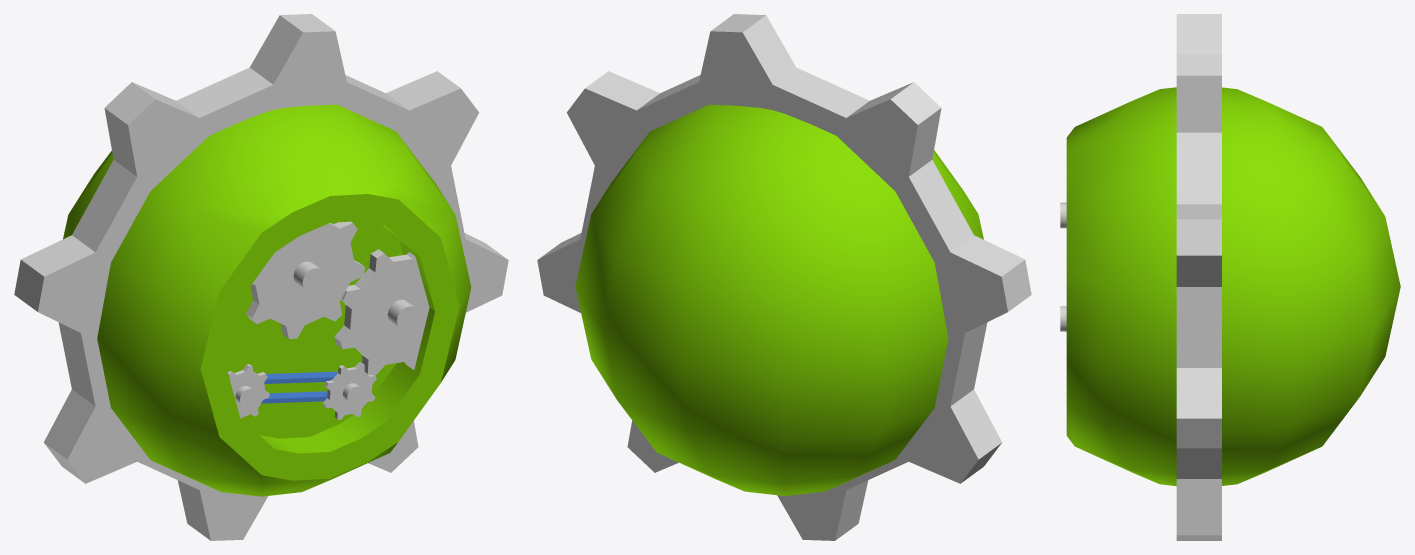
The model's file is ClockworkCore.glb.
The picture shows the model from 3 angles, left to right: view 1: azimuth 30°, elevation 25°; view 2: azimuth 150°, elevation 25°; view 3: azimuth 270°, elevation 25°; orthographic projection. The views are drawn at different scales.
Parts seen in each view (by area): view 1: Sphere, Circle, Circle.001, Circle.002, Circle.003, Cube, Circle.004, Cylinder, Cylinder.002; view 2: Sphere, Circle; view 3: Sphere, Circle.
Part boxes in pixels (left/top/right/bottom): Sphere: left=63, top=104, right=471, bottom=496; Circle: left=14, top=14, right=508, bottom=540; Circle.001: left=246, top=221, right=365, bottom=338; Circle.002: left=334, top=249, right=429, bottom=375; Circle.003: left=323, top=362, right=376, bottom=419; Cube: left=261, top=371, right=337, bottom=403; Circle.004: left=228, top=364, right=269, bottom=418; Cylinder: left=293, top=261, right=325, bottom=292; Cylinder.002: left=387, top=299, right=419, bottom=330; Sphere: left=575, top=104, right=983, bottom=495; Circle: left=537, top=14, right=1031, bottom=540; Sphere: left=1066, top=87, right=1400, bottom=486; Circle: left=1176, top=14, right=1221, bottom=540.
Size of the model in its own units: 0.6506 by 0.6506 by 0.4224.
